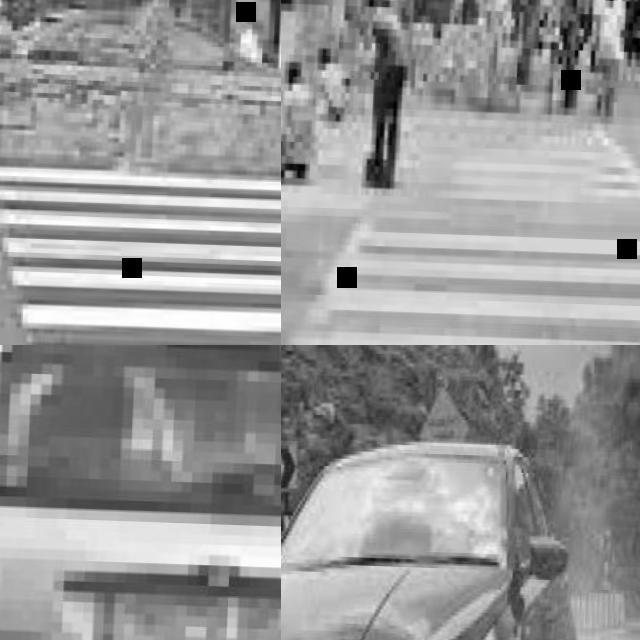car: (284, 439, 529, 639)
